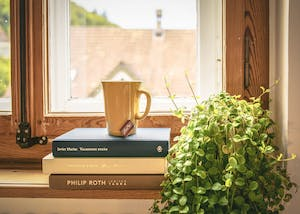book: (48, 126, 173, 157), (41, 154, 171, 174), (48, 173, 169, 190)
